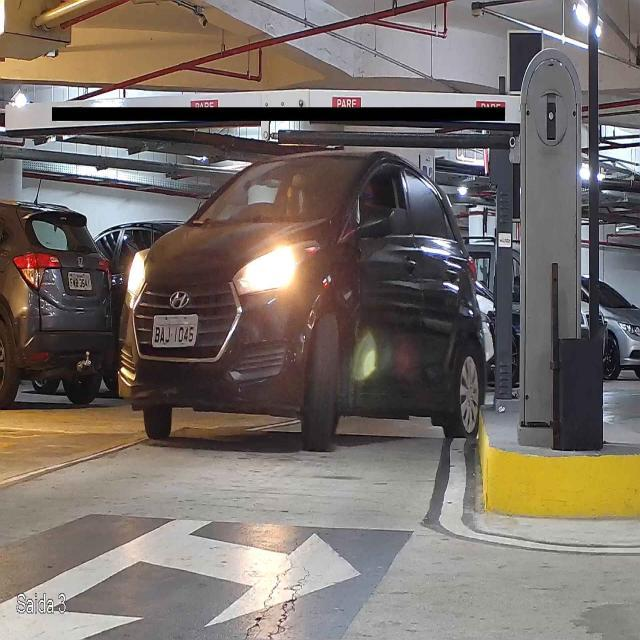old_plate: (150, 312, 200, 350)
